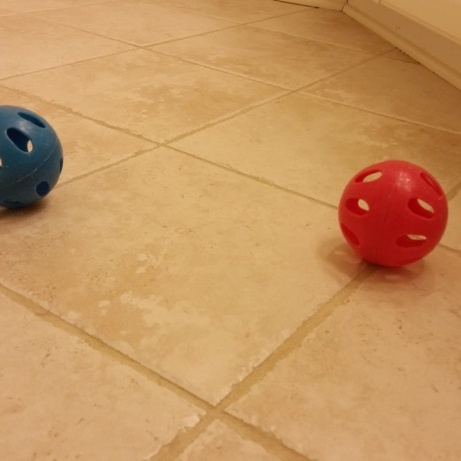blueball: (0, 101, 67, 213)
redball: (336, 156, 452, 270)
